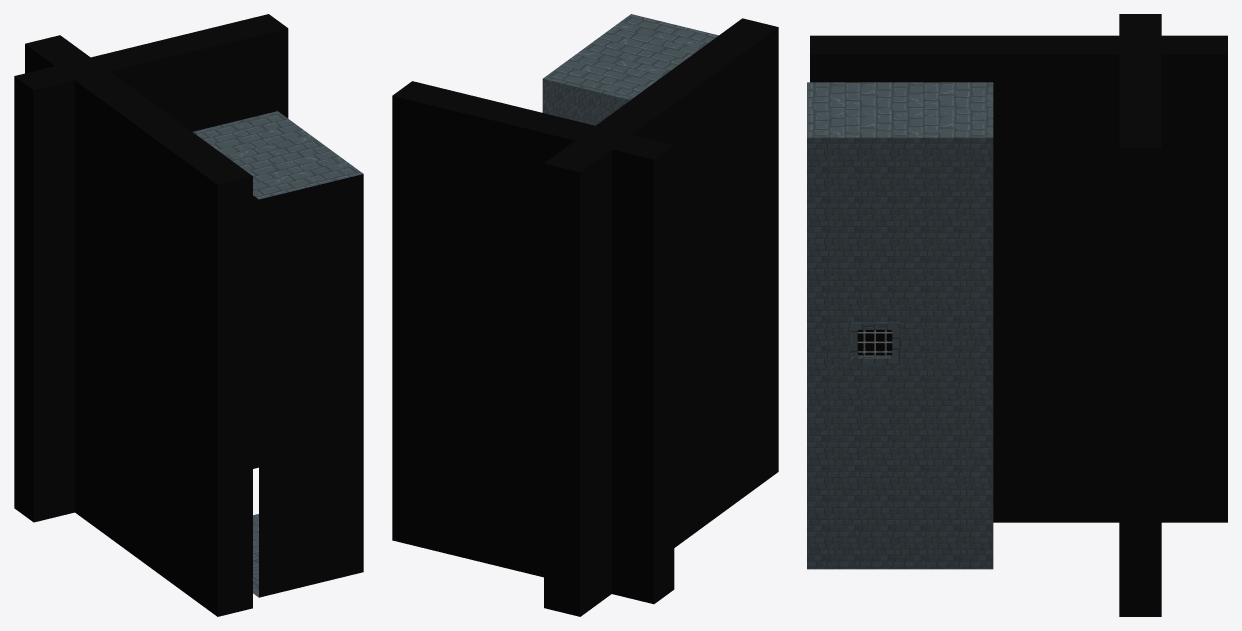
The model's file is Left_Wall.fbx.
The picture shows the model from 3 angles, left to right: view 1: azimuth 30°, elevation 25°; view 2: azimuth 150°, elevation 25°; view 3: azimuth 270°, elevation 25°; orthographic projection. The views are drawn at different scales.
Visible parts, largest first — view 1: back3, left, back4; view 2: back4, back3, left; view 3: back3, left, back4.
Part boxes in pixels (box(x1,y1,x2,y2)): back3: box(25, 35, 252, 616); left: box(193, 111, 363, 597); back4: box(14, 14, 288, 522); back4: box(392, 81, 674, 604); back3: box(544, 18, 778, 616); left: box(542, 14, 718, 125); back3: box(810, 35, 1227, 522); left: box(807, 82, 993, 569); back4: box(1119, 14, 1161, 616).
Size of the model in its own units: 1690 by 2742 by 2233.
4 materials, 2 textured.
